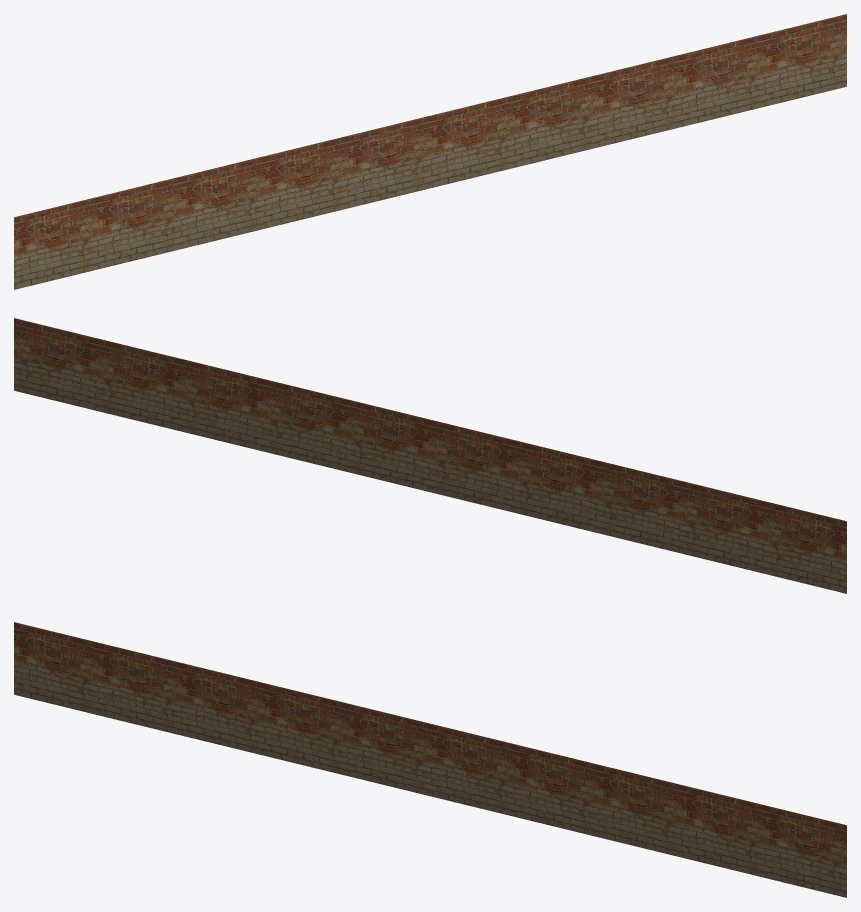
File: M10_Z02_17_Wall.glb
The picture shows the model from 3 angles, top to bottom: view 1: azimuth 30°, elevation 25°; view 2: azimuth 150°, elevation 25°; view 3: azimuth 330°, elevation 25°; orthographic projection.
Visible parts, largest first — view 1: M10_Z02_17_WALL; view 2: M10_Z02_17_WALL; view 3: M10_Z02_17_WALL.
Part boxes in pixels (bbox=[...]): M10_Z02_17_WALL: bbox=[14, 14, 846, 289]; M10_Z02_17_WALL: bbox=[14, 318, 846, 593]; M10_Z02_17_WALL: bbox=[14, 622, 846, 897].
Size of the model in its own units: 36 by 3 by 0.
1 material, 1 textured.
